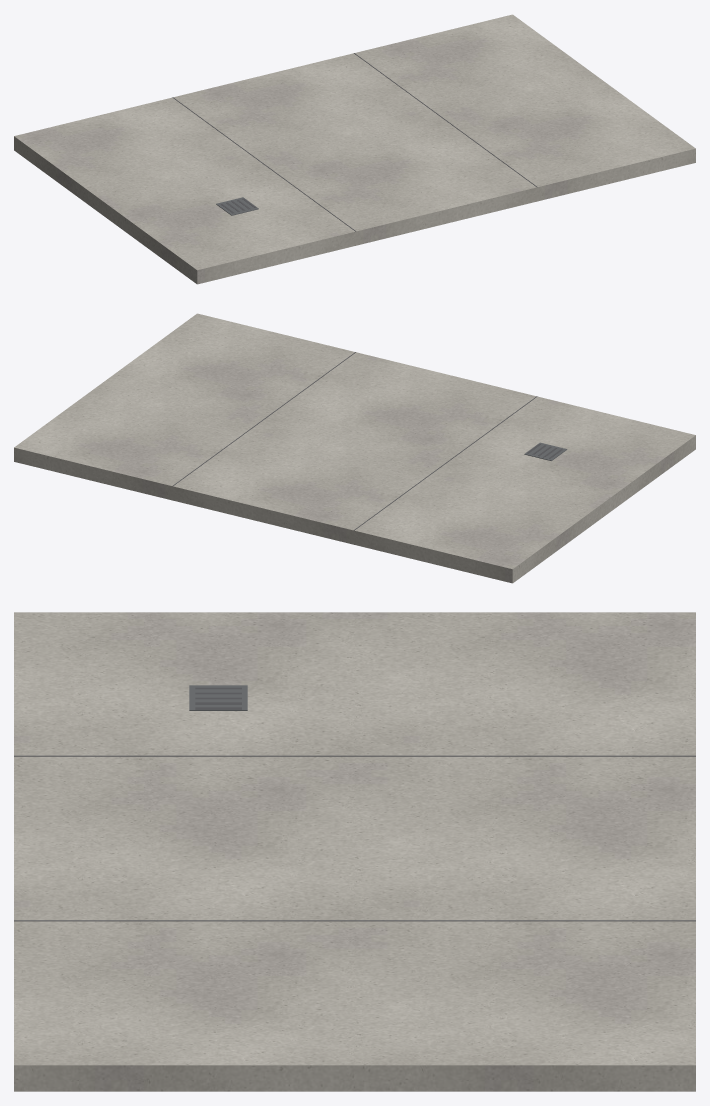
Rendered from ph_floor.glb.
3 renders of one model, top to bottom at view 1: azimuth 30°, elevation 25°; view 2: azimuth 150°, elevation 25°; view 3: azimuth 270°, elevation 25°, orthographic. The views are drawn at different scales.
Visible parts, largest first — view 1: ph_floor_concrete, ph_floor_dark; view 2: ph_floor_concrete, ph_floor_dark; view 3: ph_floor_concrete, ph_floor_dark, ph_floor_iron.
Part boxes in pixels (x1=…): ph_floor_concrete: x1=14, y1=14, x2=695, y2=284; ph_floor_dark: x1=172, y1=53, x2=537, y2=231; ph_floor_concrete: x1=14, y1=313, x2=695, y2=583; ph_floor_dark: x1=172, y1=352, x2=562, y2=530; ph_floor_concrete: x1=14, y1=612, x2=695, y2=1091; ph_floor_dark: x1=14, y1=687, x2=695, y2=921; ph_floor_iron: x1=189, y1=685, x2=247, y2=710.
Size of the model in its own units: 5.5 by 0.157 by 3.5.
Materials: 3 (1 with a texture image).
